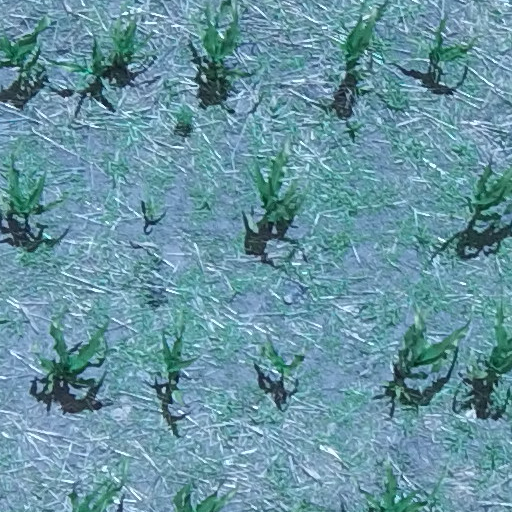planta: (397, 303, 468, 379), (39, 322, 107, 393), (1, 160, 68, 218), (202, 13, 251, 87), (255, 151, 304, 222), (336, 10, 380, 74), (159, 330, 195, 402), (46, 40, 109, 78), (107, 18, 154, 65), (427, 19, 474, 61), (261, 338, 303, 380)
